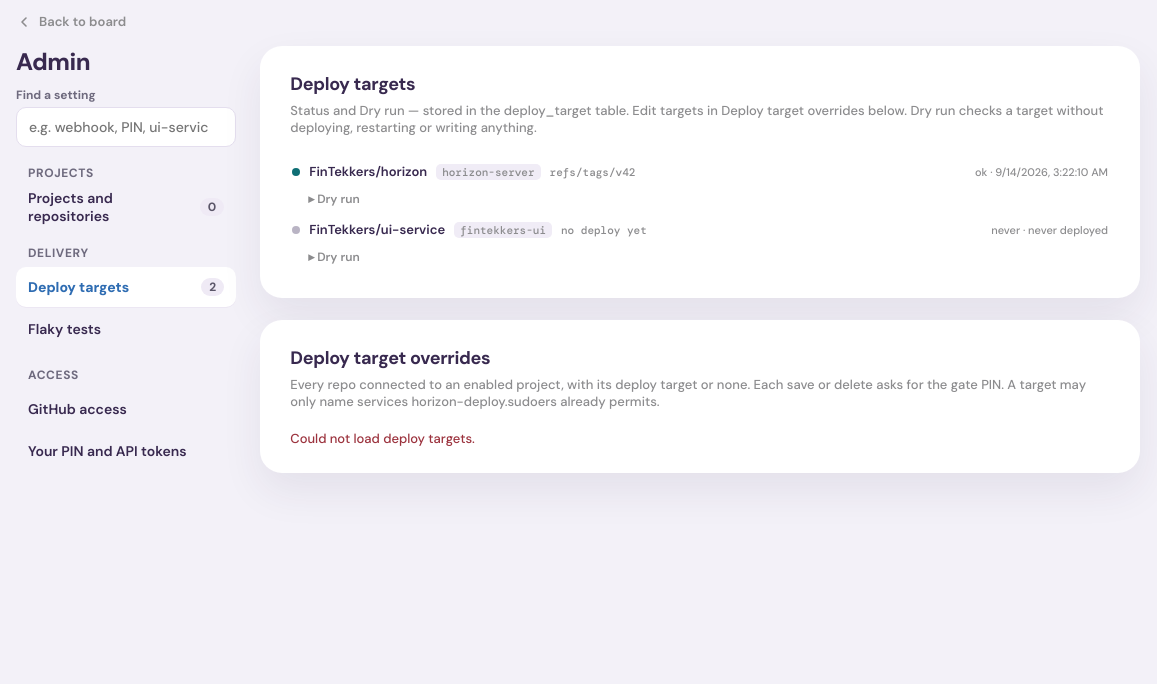
Test: Dry run with the PIN shows all five checks, each with pass/fail and its reason
Check: the text "FinTekkers/horizon" is shown, box left=309, top=163, right=427, bottom=180
Click the button "▸ Dry run" below "FinTekkers/horizon": (334, 199) left=308, top=191, right=360, bottom=207
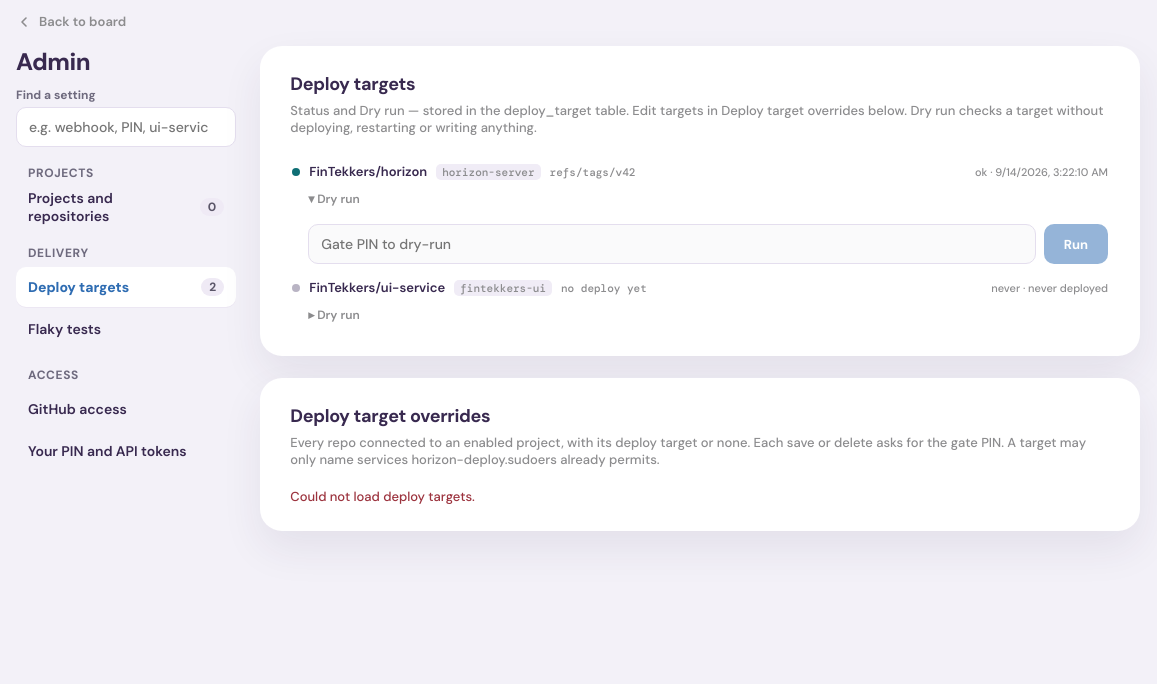
In the password field named "Gate PIN to dry-run FinTekkers/horizon": (672, 244) left=308, top=224, right=1036, bottom=264, type "1234"
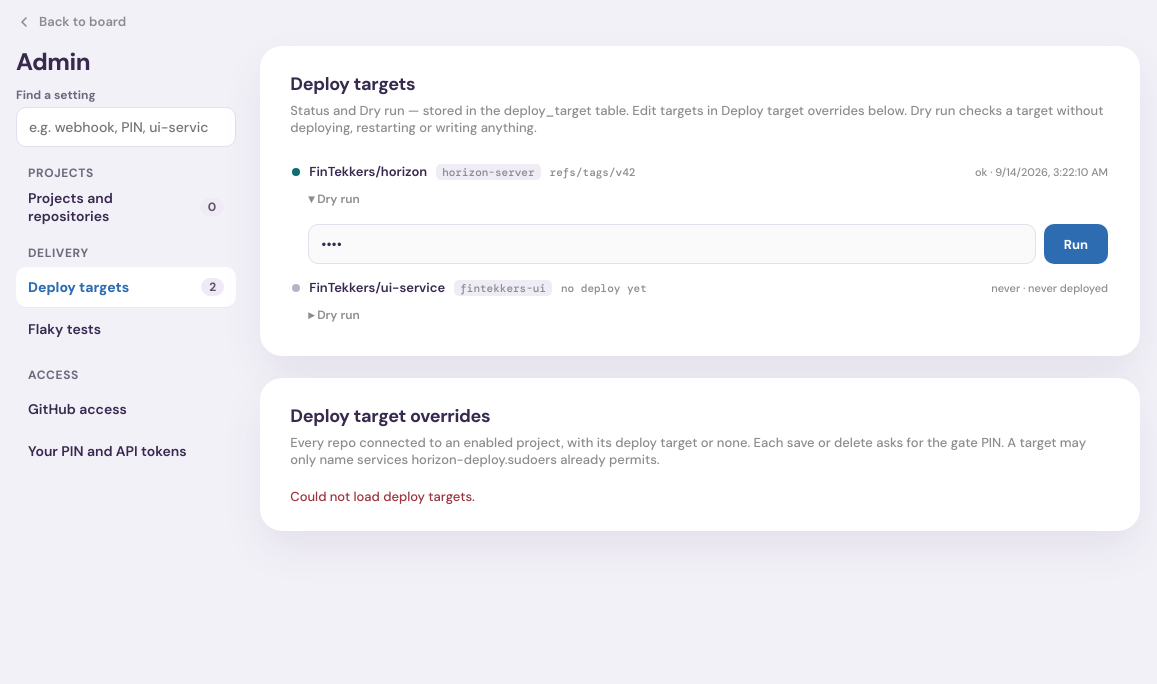
Click the button "Run": (1076, 244) left=1044, top=224, right=1108, bottom=264
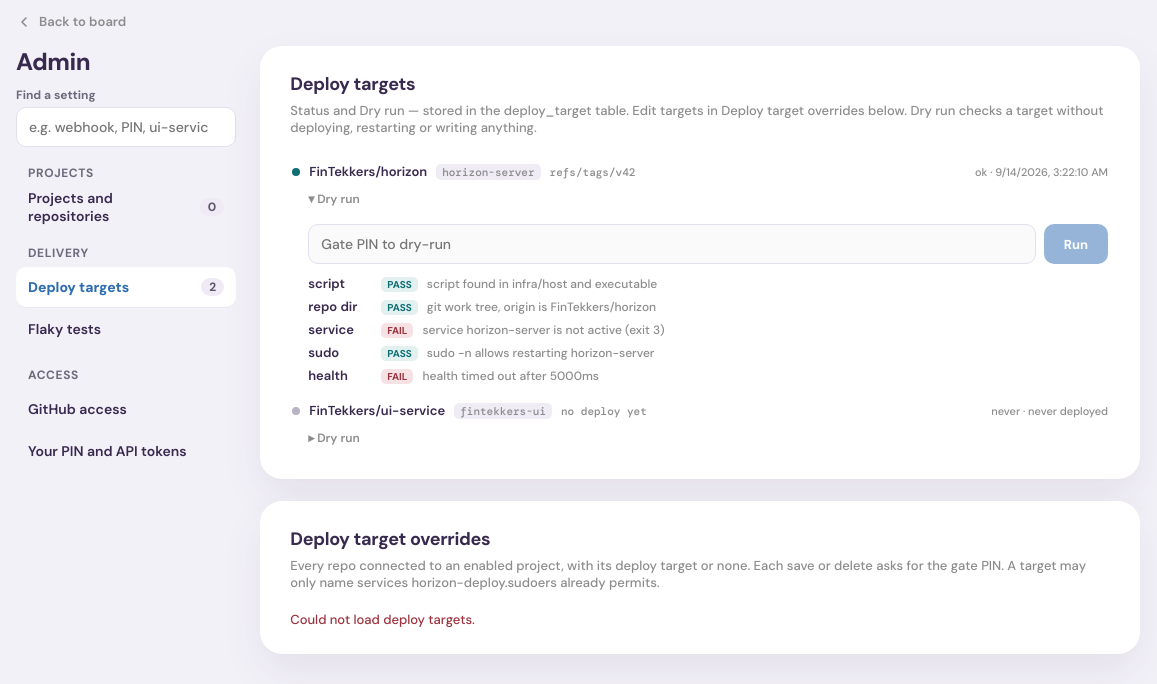
Check: the number of list items is 5, box left=308, top=275, right=657, bottom=292; left=308, top=298, right=656, bottom=315; left=308, top=321, right=665, bottom=338; left=308, top=344, right=654, bottom=361; left=308, top=367, right=599, bottom=384
Check: the list item "script pass script found in infra/host and executable" is shown, box left=308, top=275, right=657, bottom=292
Check: the 1st text "pass" is shown, box left=381, top=277, right=418, bottom=292
